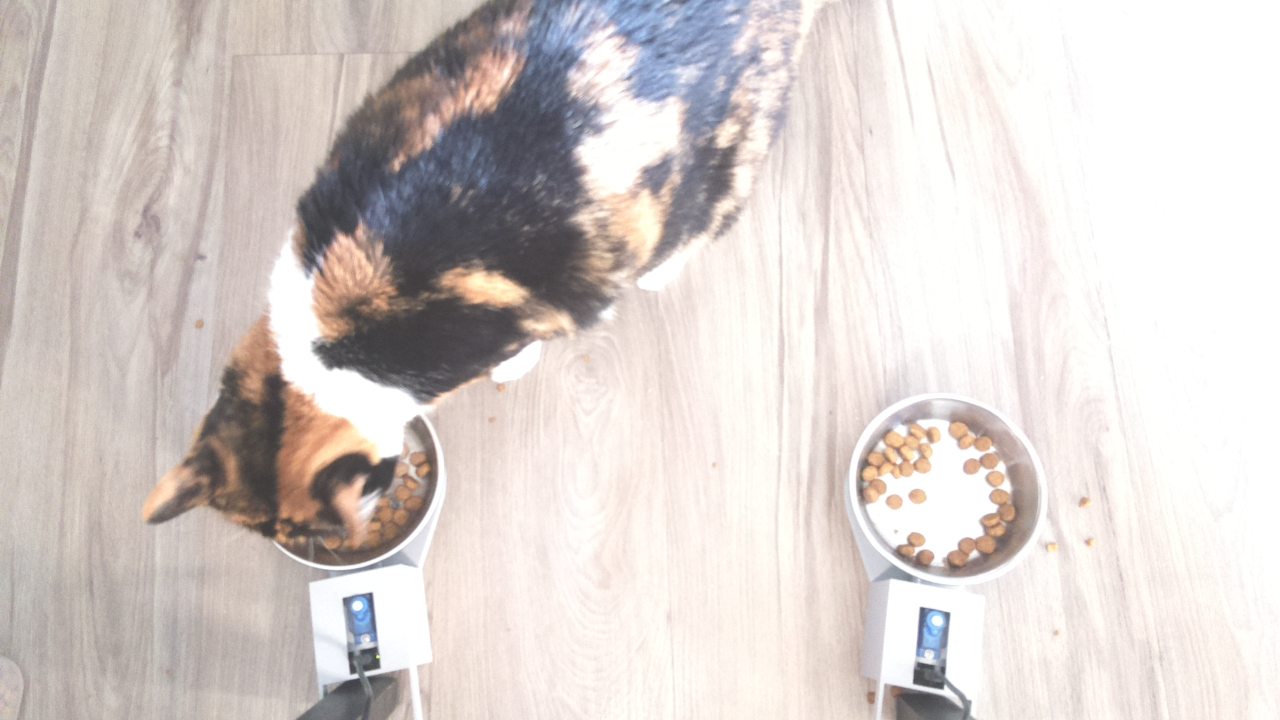bella_eating: (135, 312, 462, 591)
open_bowl: (844, 389, 1049, 590)
